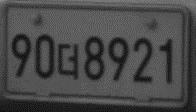0: (33, 34, 55, 80)
1: (158, 38, 174, 86)
2: (132, 37, 153, 84)
8: (83, 36, 105, 80)
9: (106, 36, 130, 84), (10, 32, 32, 77)
더: (57, 41, 79, 81)
